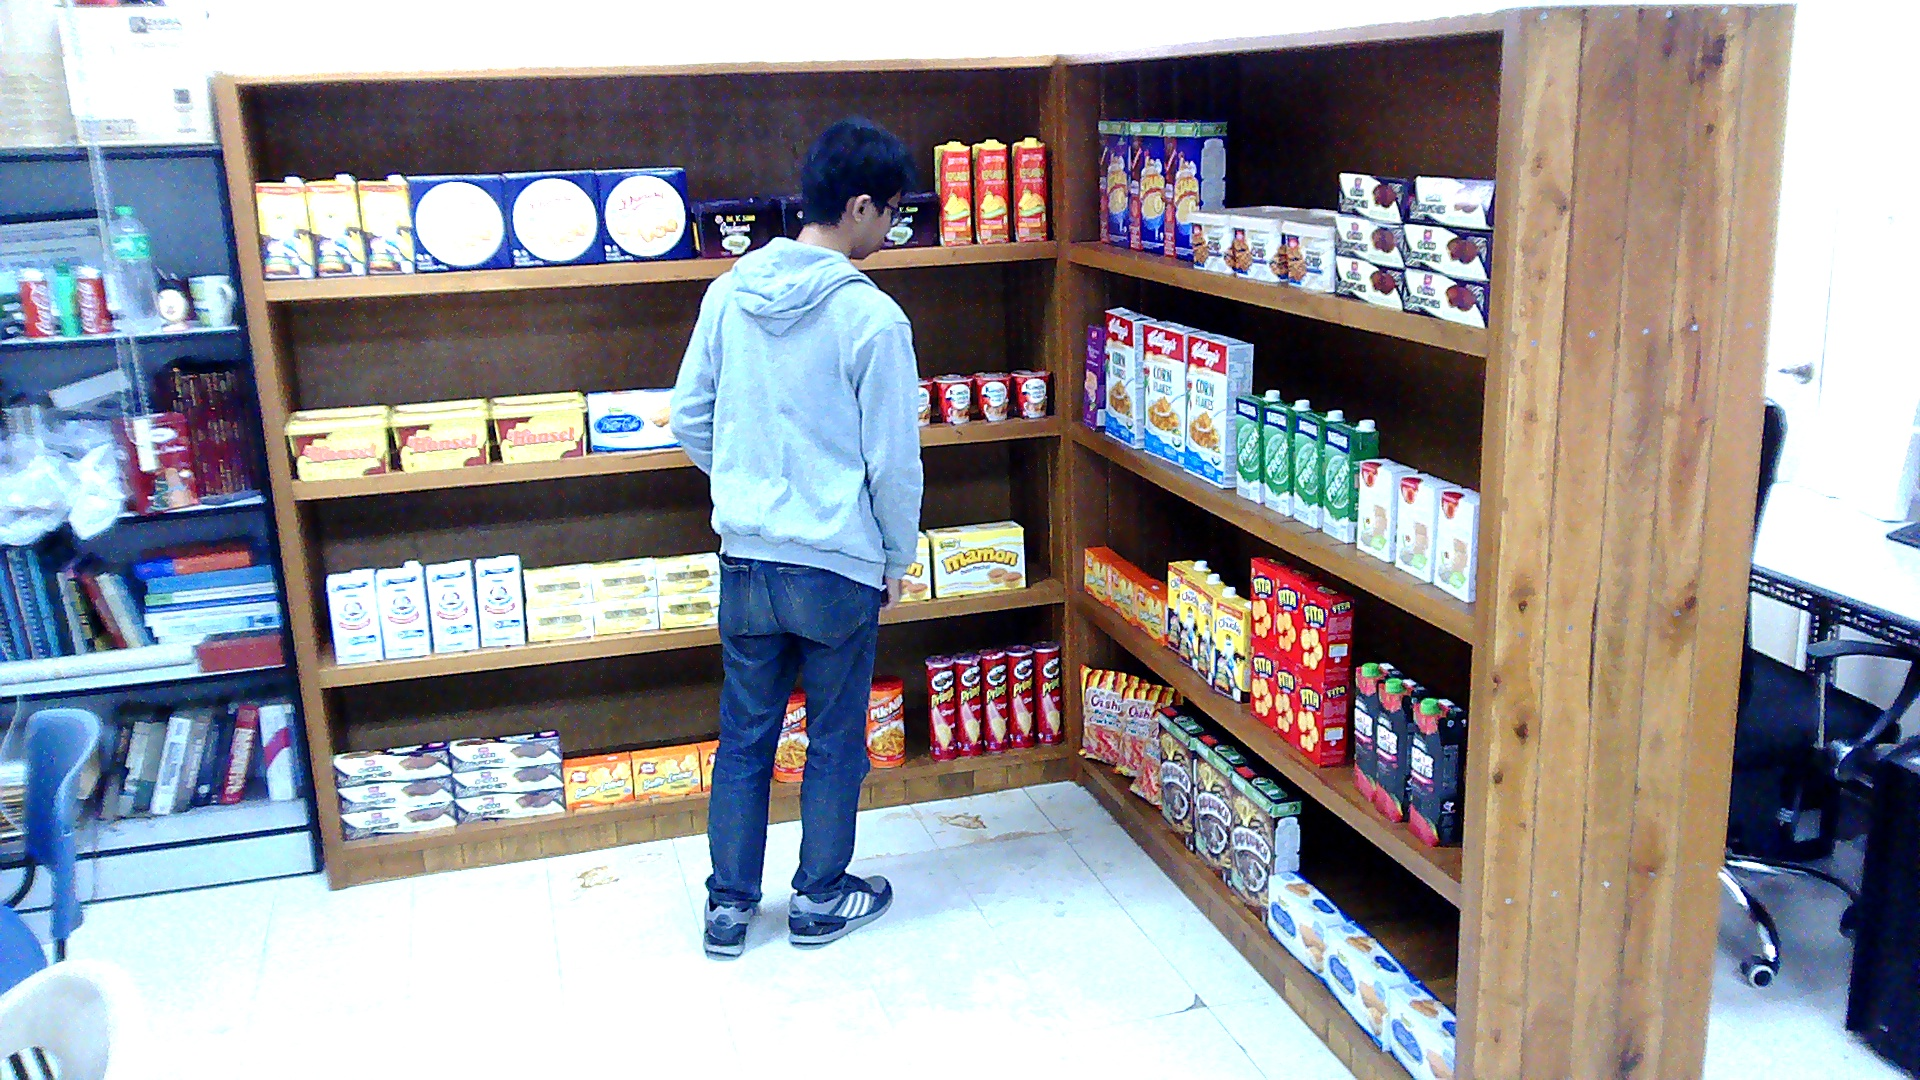Bear brand: (374, 558, 431, 657), (324, 566, 381, 663), (426, 560, 480, 652), (473, 554, 524, 646)
Buttercake: (1323, 917, 1419, 1050), (1266, 868, 1356, 981), (1386, 980, 1455, 1077), (584, 386, 677, 449)
Butterlicious: (561, 752, 633, 808), (630, 743, 699, 799), (1083, 544, 1125, 607), (1109, 560, 1148, 625), (1134, 578, 1167, 646)
Camomille: (648, 551, 720, 594), (522, 562, 591, 605), (579, 558, 654, 598), (524, 601, 593, 641), (591, 594, 657, 634), (657, 588, 720, 628)
Choco Crunchies: (332, 740, 449, 785), (1401, 267, 1488, 326), (1403, 223, 1490, 279), (1404, 175, 1494, 229), (338, 799, 455, 839), (336, 774, 453, 812), (447, 729, 561, 769), (456, 785, 564, 823), (1334, 212, 1403, 268), (1334, 254, 1403, 308), (449, 763, 560, 797), (1334, 171, 1403, 223)
Chocolate Chips: (1188, 205, 1296, 275), (1230, 207, 1332, 281), (1281, 211, 1335, 292)
Chuckie: (255, 175, 315, 278), (306, 173, 363, 274), (356, 173, 413, 274), (1178, 571, 1223, 670), (1197, 584, 1239, 683), (1167, 558, 1209, 652), (1212, 596, 1248, 702)
Danisa: (498, 168, 603, 267), (404, 173, 509, 270), (588, 169, 696, 261)
Fita: (1296, 580, 1353, 679), (1292, 666, 1349, 765), (1275, 566, 1317, 663), (1248, 554, 1290, 648), (1247, 637, 1274, 727), (1272, 653, 1296, 745)
Fresh Milk: (1320, 418, 1380, 542), (1293, 409, 1347, 528), (1263, 398, 1314, 515), (1236, 389, 1284, 504)
Grahams: (690, 197, 771, 256), (882, 188, 939, 247)
Hansel: (281, 405, 392, 479), (485, 389, 584, 463), (389, 398, 488, 470)
Head: (795, 115, 918, 261)
Honey Stars: (1164, 119, 1230, 261), (1128, 117, 1188, 254), (1095, 116, 1143, 249)
Kellogg Corn Flakes: (1182, 333, 1254, 488), (1143, 320, 1206, 466), (1103, 306, 1154, 448)
Kimchi Noodles: (971, 369, 1010, 421), (933, 371, 972, 423), (1011, 369, 1050, 416), (917, 375, 932, 424)
Koko Krunch: (1230, 763, 1302, 925), (1194, 733, 1254, 886), (1157, 704, 1208, 850)
Locally Mango: (933, 139, 972, 245), (1011, 135, 1047, 241), (972, 139, 1008, 242)
Mamon: (924, 520, 1026, 596)
Oishi Prawn: (1074, 663, 1146, 764), (1110, 682, 1182, 776), (1128, 708, 1158, 809)
Pik-nik: (863, 673, 902, 767), (771, 687, 810, 781)
Pringles: (924, 655, 957, 761), (1005, 643, 1035, 746), (951, 650, 981, 753), (978, 648, 1008, 754), (1032, 639, 1062, 742)
Super Fruits: (1410, 698, 1467, 846), (1374, 677, 1431, 821), (1353, 661, 1401, 801)
Wafer: (1080, 324, 1104, 430)
iHop: (1395, 473, 1458, 583), (1356, 457, 1416, 563), (1431, 486, 1479, 603)
